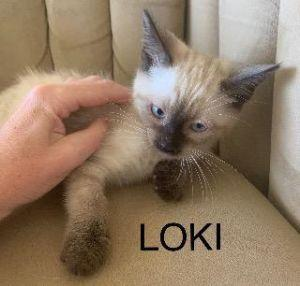siamese: (123, 4, 286, 168)
